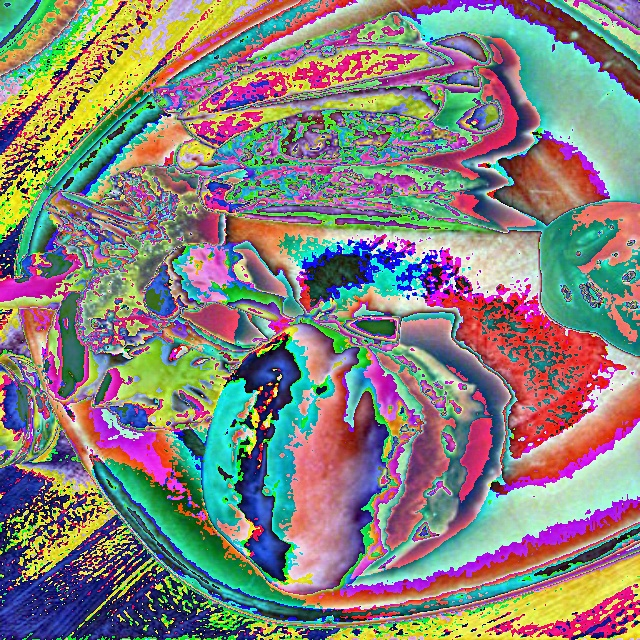background: (0, 12, 509, 596), (101, 159, 639, 357)
